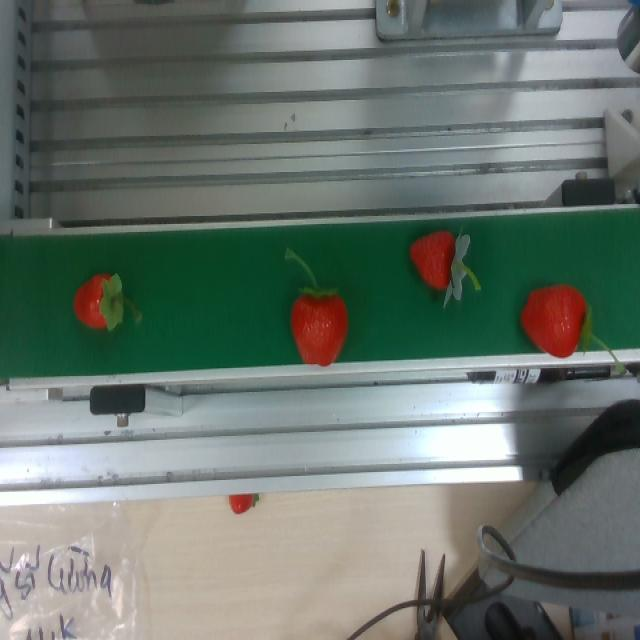Large Ripe Strawberry: (281, 242, 351, 366), (514, 261, 594, 358)
Small Ripe Strawberry: (407, 227, 488, 302), (68, 264, 140, 346)
conveyor: (9, 216, 640, 376)
